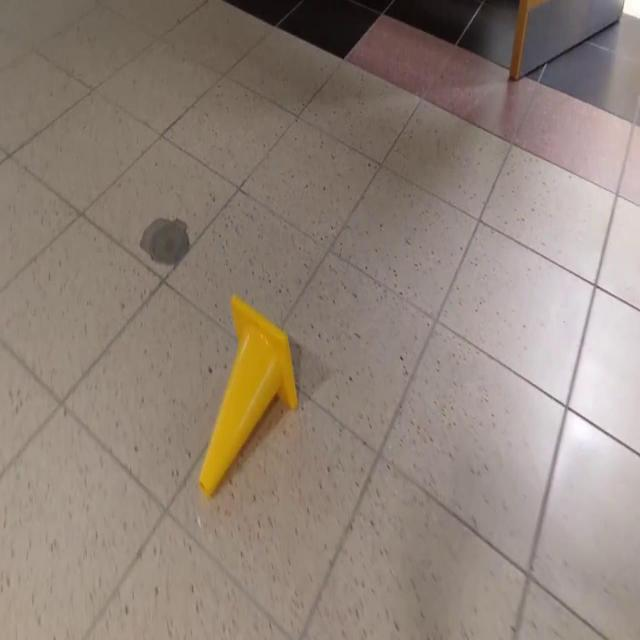frc_cone: (197, 296, 299, 495)
